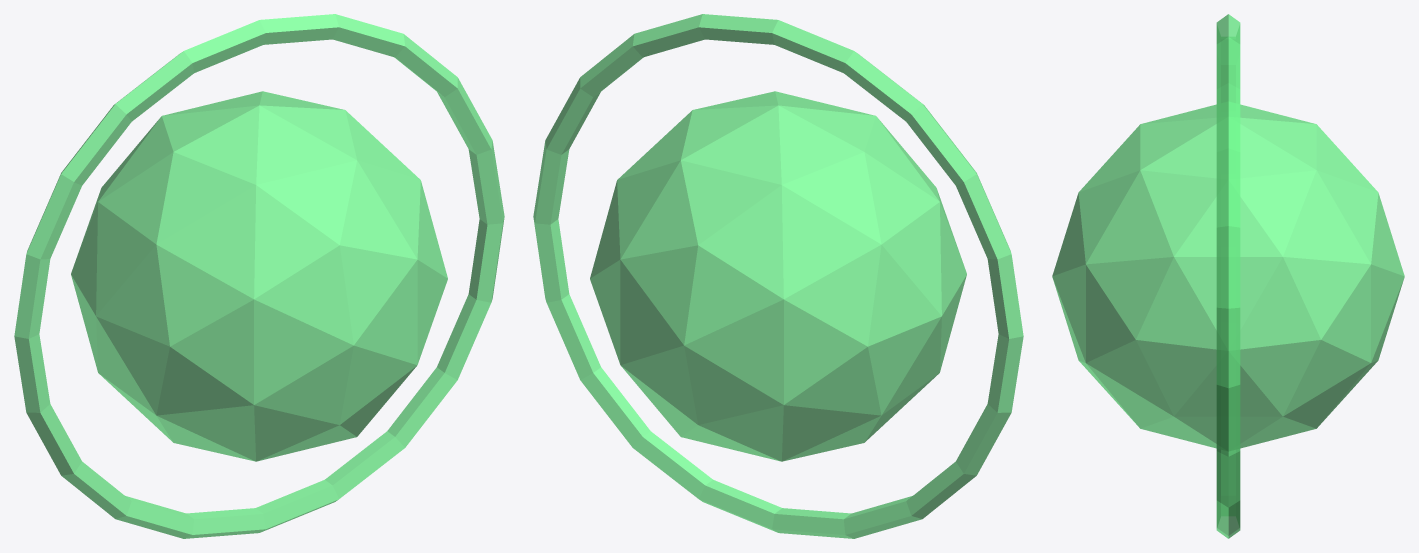
File: data_cache_node.glb
3 renders of one model, left to right at view 1: azimuth 30°, elevation 25°; view 2: azimuth 150°, elevation 25°; view 3: azimuth 270°, elevation 25°, orthographic. The views are drawn at different scales.
Parts seen in each view (by area): view 1: resource_core, resource_ring; view 2: resource_core, resource_ring; view 3: resource_core, resource_ring.
Boxes of the visible parts, x1,y1,x2,y2 form: resource_core: (71, 91, 447, 461); resource_ring: (14, 14, 504, 538); resource_core: (590, 91, 966, 461); resource_ring: (533, 14, 1023, 538); resource_core: (1052, 104, 1404, 448); resource_ring: (1216, 14, 1240, 538).
Size of the model in its own units: 1.05 by 1.05 by 0.7.
